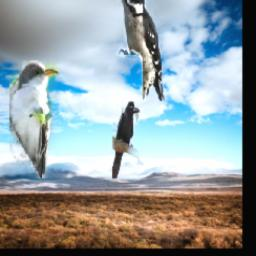Crow: (112, 101, 140, 179)
Cuckoo: (8, 60, 58, 179)
Woodpecker: (111, 0, 165, 101)
